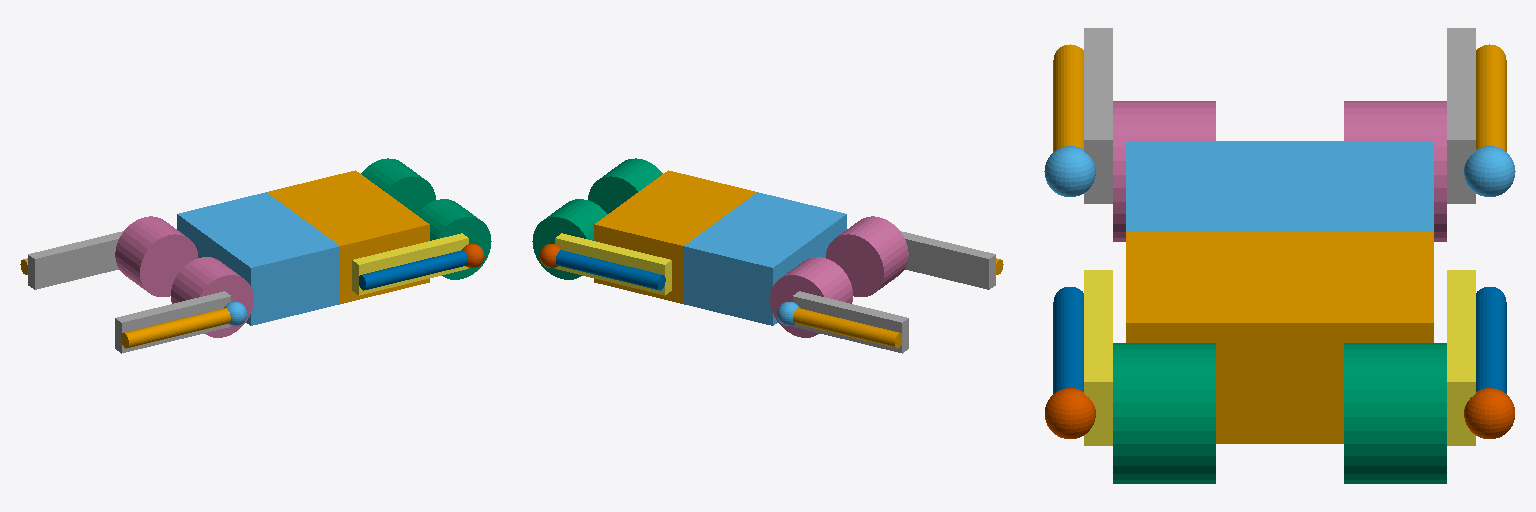
--- Render facts (derived) ---
3 views of the same robot in one strip: view 1: azimuth 30°, elevation 25°; view 2: azimuth 150°, elevation 25°; view 3: azimuth 270°, elevation 25° (orthographic).
Model spirit with 21 links and 20 joints (14 revolute, 6 fixed), rooted at body, posed all joints at 0 but 1 set to mid-range because 0 is outside their limits (body_tail_joint_1 = -1.53).
Links seen in each view (by area): view 1: body2, body, hip1, upper1, hip3, upper2, upper3, hip2, hip0, lower2, lower3; view 2: body2, body, hip3, upper3, hip1, upper0, upper1, hip0, hip2, lower0, lower1; view 3: body, body2, hip0, hip2, hip1, hip3, upper0, upper2, upper1, upper3, lower1, lower3 (+6 smaller).
Boxes of the visible links, bbox=[...] form: body2: bbox=[177, 192, 339, 325]; body: bbox=[267, 170, 429, 303]; hip1: bbox=[115, 216, 197, 296]; upper1: bbox=[28, 231, 123, 289]; hip3: bbox=[171, 257, 253, 337]; upper2: bbox=[352, 233, 468, 295]; upper3: bbox=[115, 291, 230, 353]; hip2: bbox=[416, 199, 491, 279]; hip0: bbox=[361, 158, 435, 213]; lower2: bbox=[359, 250, 467, 290]; lower3: bbox=[121, 308, 230, 348]; body2: bbox=[684, 192, 846, 325]; body: bbox=[594, 170, 756, 303]; hip3: bbox=[826, 216, 908, 296]; upper3: bbox=[900, 231, 995, 289]; hip1: bbox=[770, 257, 852, 337]; upper0: bbox=[555, 233, 671, 295]; upper1: bbox=[793, 291, 908, 353]; hip0: bbox=[532, 199, 607, 279]; hip2: bbox=[588, 158, 662, 213]; lower0: bbox=[556, 250, 665, 290]; lower1: bbox=[793, 308, 902, 348]; body: bbox=[1126, 232, 1433, 443]; body2: bbox=[1126, 141, 1433, 231]; hip0: bbox=[1344, 343, 1446, 483]; hip2: bbox=[1113, 343, 1215, 483]; hip1: bbox=[1344, 101, 1446, 241]; hip3: bbox=[1113, 101, 1215, 241]; upper0: bbox=[1447, 270, 1475, 445]; upper2: bbox=[1084, 270, 1112, 445]; upper1: bbox=[1447, 28, 1475, 203]; upper3: bbox=[1084, 28, 1112, 203]; lower1: bbox=[1476, 44, 1506, 151]; lower3: bbox=[1053, 44, 1083, 151].
Size in the robot's own frame: 0.706 by 0.366 by 0.11 metres.
Geometry: primitives only (box / cylinder / sphere), no mesh files.

robot.urdf — spirit:
<?xml version="1.0" encoding="utf-8"?>
<!-- =================================================================================== -->
<!-- |    This document was autogenerated by xacro from spine_template_robot.urdf.xacro | -->
<!-- |    EDITING THIS FILE BY HAND IS NOT RECOMMENDED                                 | -->
<!-- =================================================================================== -->
<!-- 
MIT License (modified)
Copyright (c) 2020 Ghost Robotics
Authors:
Avik De <[email redacted]>
Tom Jacobs <[email redacted]>
Permission is hereby granted, free of charge, to any person obtaining a copy
of this **file** (the "Software"), to deal
in the Software without restriction, including without limitation the rights
to use, copy, modify, merge, publish, distribute, sublicense, and/or sell
copies of the Software, and to permit persons to whom the Software is
furnished to do so, subject to the following conditions:
The above copyright notice and this permission notice shall be included in all
copies or substantial portions of the Software.
THE SOFTWARE IS PROVIDED "AS IS", WITHOUT WARRANTY OF ANY KIND, EXPRESS OR
IMPLIED, INCLUDING BUT NOT LIMITED TO THE WARRANTIES OF MERCHANTABILITY,
FITNESS FOR A PARTICULAR PURPOSE AND NONINFRINGEMENT. IN NO EVENT SHALL THE
AUTHORS OR COPYRIGHT HOLDERS BE LIABLE FOR ANY CLAIM, DAMAGES OR OTHER
LIABILITY, WHETHER IN AN ACTION OF CONTRACT, TORT OR OTHERWISE, ARISING FROM,
OUT OF OR IN CONNECTION WITH THE SOFTWARE OR THE USE OR OTHER DEALINGS IN THE
SOFTWARE. 
-->
<robot name="spirit">
  <!-- Body -->
  <link name="body">
    <visual>
      <origin rpy="0 0 0" xyz="0.08375 0 0"/>
      <geometry>
        <box size="0.1675 0.24 0.104"/>
      </geometry>
      <material name="darkgray"/>
    </visual>
    <inertial>
      <origin rpy="0 0 0" xyz="0.08375 0 0"/>
      <mass value="5.75"/>
      <!-- Uniform box -->
      <!-- <inertia ixx="1/12*${bodyMass}*(${bodyWidth}*${bodyWidth} + ${bodyHeight}*${bodyHeight})"  ixy="0"  ixz="0" iyy="1/12*${bodyMass}*(${bodyLength}*${bodyLength} + ${bodyHeight}*${bodyHeight})" iyz="0" izz="1/12*${bodyMass}*(${bodyLength}*${bodyLength} + ${bodyWidth}*${bodyWidth})"/> -->
      <inertia ixx="0.05" ixy="0" ixz="0" iyy="0.1" iyz="0" izz="0.1"/>
    </inertial>
    <!-- Just copy geometry for collision -->
    <collision>
      <origin rpy="0 0 0" xyz="0.08375 0 0"/>
      <geometry>
        <box size="0.1675 0.24 0.104"/>
        <!-- <uri>model:///meshes/Spirit40_Body_Mesh_transformed.stl</uri> -->
      </geometry>
    </collision>
  </link>
  <gazebo reference="body">
    <material>Gazebo/Black</material>
    <gravity>true</gravity>
  </gazebo>
  <link name="body2">
    <visual>
      <origin rpy="0 0 0" xyz="-0.08375 0 0"/>
      <geometry>
        <box size="0.1675 0.24 0.104"/>
      </geometry>
      <material name="darkgray"/>
    </visual>
    <inertial>
      <origin rpy="0 0 0" xyz="-0.08375 0 0"/>
      <mass value="5.75"/>
      <!-- Uniform box -->
      <!-- <inertia ixx="1/12*${bodyMass}*(${bodyWidth}*${bodyWidth} + ${bodyHeight}*${bodyHeight})"  ixy="0"  ixz="0" iyy="1/12*${bodyMass}*(${bodyLength}*${bodyLength} + ${bodyHeight}*${bodyHeight})" iyz="0" izz="1/12*${bodyMass}*(${bodyLength}*${bodyLength} + ${bodyWidth}*${bodyWidth})"/> -->
      <inertia ixx="0.05" ixy="0" ixz="0" iyy="0.1" iyz="0" izz="0.1"/>
    </inertial>
    <!-- Just copy geometry for collision -->
    <collision>
      <origin rpy="0 0 0" xyz="-0.08375 0 0"/>
      <geometry>
        <box size="0.1675 0.24 0.104"/>
        <!-- <uri>model:///meshes/Spirit40_Body_Mesh_transformed.stl</uri> -->
      </geometry>
    </collision>
  </link>
  <gazebo reference="body2">
    <material>Gazebo/Grey</material>
    <gravity>true</gravity>
  </gazebo>
  <!-- Hip motor -->
  <link name="hip0">
    <visual>
      <origin rpy="1.5707963268 0 0" xyz="0 0.028 0"/>
      <geometry>
        <cylinder length="0.08" radius="0.055"/>
      </geometry>
    </visual>
    <collision>
      <origin rpy="1.5707963268 0 0" xyz="0 0.028 0"/>
      <geometry>
        Radius
					
        <!-- <cylinder length="${podLength}" radius="${podRadius}"/> -->
        <box size="0.11 0.11 0.08"/>
      </geometry>
    </collision>
    <inertial>
      <!-- <origin rpy="${pi/2} 0 0" xyz="0 ${left * (dPodAxisToEdge)} 0"/> -->
      <origin rpy="0 0 0" xyz="0 0.028 0"/>
      <mass value="0.575"/>
      <!-- <inertia ixx="1/12*${podMass}*${podLength}*${podLength} + 1/4*${podMass}*${podRadius}*${podRadius}"  ixy="0"  ixz="0" iyy="1/12*${podMass}*${podLength}*${podLength} + 1/4*${podMass}*${podRadius}*${podRadius}" iyz="0" izz="1/2*${podMass}*${podRadius}*$
				{podRadius}" /> -->
      <inertia ixx="0.00066963541" ixy="0" ixz="0" iyy="0.00066963541" iyz="0" izz="0.0008696875"/>
    </inertial>
  </link>
  <gazebo reference="hip0">
    <material>Gazebo/Grey</material>
  </gazebo>
  <!-- Upper leg -->
  <link name="upper0">
    <visual>
      <origin rpy="0 0 0" xyz="-0.103 -0.022 0"/>
      <geometry>
        <box size="0.206 0.022 0.055"/>
      </geometry>
      <material name="silver"/>
    </visual>
    <collision>
      <origin rpy="0 0 0" xyz="-0.103 -0.022 0"/>
      <geometry>
        <box size="0.206 0.022 0.055"/>
      </geometry>
    </collision>
    <inertial>
      <origin rpy="0 0 0" xyz="-0.103 -0.022 0"/>
      <mass value="0.775"/>
      <inertia ixx="5e-05" ixy="0" ixz="0" iyy="0.001" iyz="0" izz="0.001"/>
    </inertial>
  </link>
  <gazebo reference="upper0">
    <material>Gazebo/DarkGrey</material>
  </gazebo>
  <!-- Abduction joint. Joint names are: 8 9 10 11 -->
  <joint name="8" type="revolute">
    <!-- <parent link="body"/> -->
    <parent link="body"/>
    <child link="hip0"/>
    <axis xyz="1 0 0"/>
    <origin xyz="0.2225 0.062 0"/>
    <!-- <origin xyz="${front * dx} ${left * dy} 0"/> -->
    <!-- <origin xyz="${front *bodyLength/2+front * podRadius} ${left *bodyWidth/2} 0"/> -->
    <limit effort="40" lower="-0.707" upper="0.707" velocity="30"/>
    <dynamics damping="0.0" friction="0.0"/>
  </joint>
  <!-- Transmission elements required for Gazebo -->
  <transmission name="transmission_8">
    <type>transmission_interface/SimpleTransmission</type>
    <joint name="8">
      <hardwareInterface>hardware_interface/EffortJointInterface</hardwareInterface>
    </joint>
    <actuator name="motor_8">
      <hardwareInterface>EffortJointInterface</hardwareInterface>
      <mechanicalReduction>1</mechanicalReduction>
    </actuator>
  </transmission>
  <!-- Hip joint. (Motor to upper leg). Joint names are: 0 2 4 6 -->
  <joint name="0" type="revolute">
    <parent link="hip0"/>
    <child link="upper0"/>
    <axis xyz="0 -1 0"/>
    <origin xyz="0 0.10098 0"/>
    <!--  rpy="0 -0.3 0" -->
    <limit effort="40" lower="-6.28318530718" upper="6.28318530718" velocity="30"/>
    <dynamics damping="0.0" friction="0.0"/>
  </joint>
  <!-- Transmission elements required for Gazebo -->
  <transmission name="transmission_0">
    <type>transmission_interface/SimpleTransmission</type>
    <joint name="0">
      <hardwareInterface>hardware_interface/EffortJointInterface</hardwareInterface>
    </joint>
    <actuator name="motor_0">
      <hardwareInterface>EffortJointInterface</hardwareInterface>
      <mechanicalReduction>1</mechanicalReduction>
    </actuator>
  </transmission>
  <!-- Lower leg -->
  <link name="lower0">
    <visual>
      <origin rpy="0 1.5707963268 0" xyz="0.103 0 0"/>
      <geometry>
        <cylinder length="0.206" radius="0.013"/>
      </geometry>
      <material name="darkgray"/>
    </visual>
    <collision>
      <origin rpy="0 1.5707963268 0" xyz="0.103 0 0"/>
      <geometry>
        <cylinder length="0.206" radius="0.013"/>
      </geometry>
    </collision>
    <inertial>
      <origin rpy="0 1.5707963268 0" xyz="0.103 0 0"/>
      <mass value="0.075"/>
      <inertia ixx="5e-06" ixy="0" ixz="0" iyy="0.0001" iyz="0" izz="0.0001"/>
    </inertial>
  </link>
  <gazebo reference="lower0">
    <material>Gazebo/Grey</material>
  </gazebo>
  <!-- Knee joint. Joint names are: 1 3 5 7 -->
  <joint name="1" type="revolute">
    <parent link="upper0"/>
    <child link="lower0"/>
    <axis xyz="0 1 0"/>
    <origin xyz="-0.206 0 0"/>
    <!--rpy="0 0.5 0"-->
    <limit effort="40" lower="0" upper="3.14159265359" velocity="30"/>
    <dynamics damping="0.0" friction="0.0"/>
  </joint>
  <!-- Transmission elements required for Gazebo -->
  <transmission name="transmission_1">
    <type>transmission_interface/SimpleTransmission</type>
    <joint name="1">
      <hardwareInterface>hardware_interface/EffortJointInterface</hardwareInterface>
    </joint>
    <actuator name="motor_1">
      <hardwareInterface>EffortJointInterface</hardwareInterface>
      <mechanicalReduction>1</mechanicalReduction>
    </actuator>
  </transmission>
  <!-- Toe -->
  <link name="toe0">
    <contact>
      <friction_anchor/>
      <stiffness value="30000.0"/>
      <damping value="1000.0"/>
      <spinning_friction value="0.3"/>
      <lateral_friction value="50.0"/>
    </contact>
    <visual>
      <origin rpy="0 0 0" xyz="0 0 0"/>
      <geometry>
        <sphere radius="0.02"/>
      </geometry>
      <material name="darkgray"/>
    </visual>
    <collision>
      <origin rpy="0 0 0" xyz="0 0 0"/>
      <geometry>
        <sphere radius="0.02"/>
      </geometry>
    </collision>
    <inertial>
      <mass value="0.015"/>
      <inertia ixx="0.000025" ixy="0" ixz="0" iyy="0.000025" iyz="0" izz="0.000025"/>
      <!-- <inertia ixx="2/5*${toeMass}*${toeRadius}*${toeRadius}"  ixy="0"  ixz="0" iyy="2/5*${toeMass}*${toeRadius}*${toeRadius}" iyz="0" izz="2/5*${toeMass}*${toeRadius}*${toeRadius}" /> -->
    </inertial>
  </link>
  <gazebo reference="toe0">
    <material>Gazebo/Black</material>
    <collision>
      <surface>
        <bounce>
          <restitution_coefficient>0</restitution_coefficient>
          <threshold>1e+06</threshold>
        </bounce>
        <friction>
          <torsional>
            <coefficient>0.3</coefficient>
          </torsional>
          <ode>
            <mu>100.0</mu>
            <mu2>50.0</mu2>
          </ode>
          <bullet>
            <rolling_friction>0.3</rolling_friction>
            <friction2>50.0</friction2>
          </bullet>
        </friction>
        <contact>
          <bullet>
            <kp>30000.0</kp>
            <kd>1000.0</kd>
          </bullet>
          <ode>
            <kp>30000.0</kp>
            <kd>1000.0</kd>
          </ode>
        </contact>
      </surface>
    </collision>
    <sensor name="toe0_contact" type="contact">
      <plugin filename="libgazebo_ros_bumper.so" name="toe0_plugin">
        <alwaysOn>1</alwaysOn>
        <updateRate>1000</updateRate>
        <bumperTopicName>gazebo/toe0_contact_state</bumperTopicName>
        <frameName>world</frameName>
        <robotNamespace>/</robotNamespace>
      </plugin>
      <contact>
        <collision>toe0_collision</collision>
        <topic>__default_topic__</topic>
      </contact>
      <update_rate>1000</update_rate>
    </sensor>
  </gazebo>
  <!-- Hip motor -->
  <link name="hip1">
    <visual>
      <origin rpy="1.5707963268 0 0" xyz="0 0.028 0"/>
      <geometry>
        <cylinder length="0.08" radius="0.055"/>
      </geometry>
    </visual>
    <collision>
      <origin rpy="1.5707963268 0 0" xyz="0 0.028 0"/>
      <geometry>
        Radius
					
        <!-- <cylinder length="${podLength}" radius="${podRadius}"/> -->
        <box size="0.11 0.11 0.08"/>
      </geometry>
    </collision>
    <inertial>
      <!-- <origin rpy="${pi/2} 0 0" xyz="0 ${left * (dPodAxisToEdge)} 0"/> -->
      <origin rpy="0 0 0" xyz="0 0.028 0"/>
      <mass value="0.575"/>
      <!-- <inertia ixx="1/12*${podMass}*${podLength}*${podLength} + 1/4*${podMass}*${podRadius}*${podRadius}"  ixy="0"  ixz="0" iyy="1/12*${podMass}*${podLength}*${podLength} + 1/4*${podMass}*${podRadius}*${podRadius}" iyz="0" izz="1/2*${podMass}*${podRadius}*$
				{podRadius}" /> -->
      <inertia ixx="0.00066963541" ixy="0" ixz="0" iyy="0.00066963541" iyz="0" izz="0.0008696875"/>
    </inertial>
  </link>
  <gazebo reference="hip1">
    <material>Gazebo/Grey</material>
  </gazebo>
  <!-- Upper leg -->
  <link name="upper1">
    <visual>
      <origin rpy="0 0 0" xyz="-0.103 -0.022 0"/>
      <geometry>
        <box size="0.206 0.022 0.055"/>
      </geometry>
      <material name="silver"/>
    </visual>
    <collision>
      <origin rpy="0 0 0" xyz="-0.103 -0.022 0"/>
      <geometry>
        <box size="0.206 0.022 0.055"/>
      </geometry>
    </collision>
    <inertial>
      <origin rpy="0 0 0" xyz="-0.103 -0.022 0"/>
      <mass value="0.775"/>
      <inertia ixx="5e-05" ixy="0" ixz="0" iyy="0.001" iyz="0" izz="0.001"/>
    </inertial>
  </link>
  <gazebo reference="upper1">
    <material>Gazebo/DarkGrey</material>
  </gazebo>
  <!-- Abduction joint. Joint names are: 8 9 10 11 -->
  <joint name="9" type="revolute">
    <!-- <parent link="body"/> -->
    <parent link="body2"/>
    <child link="hip1"/>
    <axis xyz="1 0 0"/>
    <origin xyz="-0.2225 0.062 0"/>
    <!-- <origin xyz="${front * dx} ${left * dy} 0"/> -->
    <!-- <origin xyz="${front *bodyLength/2+front * podRadius} ${left *bodyWidth/2} 0"/> -->
    <limit effort="40" lower="-0.707" upper="0.707" velocity="30"/>
    <dynamics damping="0.0" friction="0.0"/>
  </joint>
  <!-- Transmission elements required for Gazebo -->
  <transmission name="transmission_9">
    <type>transmission_interface/SimpleTransmission</type>
    <joint name="9">
      <hardwareInterface>hardware_interface/EffortJointInterface</hardwareInterface>
    </joint>
    <actuator name="motor_9">
      <hardwareInterface>EffortJointInterface</hardwareInterface>
      <mechanicalReduction>1</mechanicalReduction>
    </actuator>
  </transmission>
  <!-- Hip joint. (Motor to upper leg). Joint names are: 0 2 4 6 -->
  <joint name="2" type="revolute">
    <parent link="hip1"/>
    <child link="upper1"/>
    <axis xyz="0 -1 0"/>
    <origin xyz="0 0.10098 0"/>
    <!--  rpy="0 -0.3 0" -->
    <limit effort="40" lower="-6.28318530718" upper="6.28318530718" velocity="30"/>
    <dynamics damping="0.0" friction="0.0"/>
  </joint>
  <!-- Transmission elements required for Gazebo -->
  <transmission name="transmission_2">
    <type>transmission_interface/SimpleTransmission</type>
    <joint name="2">
      <hardwareInterface>hardware_interface/EffortJointInterface</hardwareInterface>
    </joint>
    <actuator name="motor_2">
      <hardwareInterface>EffortJointInterface</hardwareInterface>
      <mechanicalReduction>1</mechanicalReduction>
    </actuator>
  </transmission>
  <!-- Lower leg -->
  <link name="lower1">
    <visual>
      <origin rpy="0 1.5707963268 0" xyz="0.103 0 0"/>
      <geometry>
        <cylinder length="0.206" radius="0.013"/>
      </geometry>
      <material name="darkgray"/>
    </visual>
    <collision>
      <origin rpy="0 1.5707963268 0" xyz="0.103 0 0"/>
      <geometry>
        <cylinder length="0.206" radius="0.013"/>
      </geometry>
    </collision>
    <inertial>
      <origin rpy="0 1.5707963268 0" xyz="0.103 0 0"/>
      <mass value="0.075"/>
      <inertia ixx="5e-06" ixy="0" ixz="0" iyy="0.0001" iyz="0" izz="0.0001"/>
    </inertial>
  </link>
  <gazebo reference="lower1">
    <material>Gazebo/Grey</material>
  </gazebo>
  <!-- Knee joint. Joint names are: 1 3 5 7 -->
  <joint name="3" type="revolute">
    <parent link="upper1"/>
    <child link="lower1"/>
    <axis xyz="0 1 0"/>
    <origin xyz="-0.206 0 0"/>
    <!--rpy="0 0.5 0"-->
    <limit effort="40" lower="0" upper="3.14159265359" velocity="30"/>
    <dynamics damping="0.0" friction="0.0"/>
  </joint>
  <!-- Transmission elements required for Gazebo -->
  <transmission name="transmission_3">
    <type>transmission_interface/SimpleTransmission</type>
    <joint name="3">
      <hardwareInterface>hardware_interface/EffortJointInterface</hardwareInterface>
    </joint>
    <actuator name="motor_3">
      <hardwareInterface>EffortJointInterface</hardwareInterface>
      <mechanicalReduction>1</mechanicalReduction>
    </actuator>
  </transmission>
  <!-- Toe -->
  <link name="toe1">
    <contact>
      <friction_anchor/>
      <stiffness value="30000.0"/>
      <damping value="1000.0"/>
      <spinning_friction value="0.3"/>
      <lateral_friction value="50.0"/>
    </contact>
    <visual>
      <origin rpy="0 0 0" xyz="0 0 0"/>
      <geometry>
        <sphere radius="0.02"/>
      </geometry>
      <material name="darkgray"/>
    </visual>
    <collision>
      <origin rpy="0 0 0" xyz="0 0 0"/>
      <geometry>
        <sphere radius="0.02"/>
      </geometry>
    </collision>
    <inertial>
      <mass value="0.015"/>
      <inertia ixx="0.000025" ixy="0" ixz="0" iyy="0.000025" iyz="0" izz="0.000025"/>
      <!-- <inertia ixx="2/5*${toeMass}*${toeRadius}*${toeRadius}"  ixy="0"  ixz="0" iyy="2/5*${toeMass}*${toeRadius}*${toeRadius}" iyz="0" izz="2/5*${toeMass}*${toeRadius}*${toeRadius}" /> -->
    </inertial>
  </link>
  <gazebo reference="toe1">
    <material>Gazebo/Black</material>
    <collision>
      <surface>
        <bounce>
          <restitution_coefficient>0</restitution_coefficient>
          <threshold>1e+06</threshold>
        </bounce>
        <friction>
          <torsional>
            <coefficient>0.3</coefficient>
          </torsional>
          <ode>
            <mu>100.0</mu>
            <mu2>50.0</mu2>
          </ode>
          <bullet>
            <rolling_friction>0.3</rolling_friction>
            <friction2>50.0</friction2>
          </bullet>
        </friction>
        <contact>
          <bullet>
            <kp>30000.0</kp>
            <kd>1000.0</kd>
          </bullet>
          <ode>
            <kp>30000.0</kp>
            <kd>1000.0</kd>
          </ode>
        </contact>
      </surface>
    </collision>
    <sensor name="toe1_contact" type="contact">
      <plugin filename="libgazebo_ros_bumper.so" name="toe1_plugin">
        <alwaysOn>1</alwaysOn>
        <updateRate>1000</updateRate>
        <bumperTopicName>gazebo/toe1_contact_state</bumperTopicName>
        <frameName>world</frameName>
        <robotNamespace>/</robotNamespace>
      </plugin>
      <contact>
        <collision>toe1_collision</collision>
        <topic>__default_topic__</topic>
      </contact>
      <update_rate>1000</update_rate>
    </sensor>
  </gazebo>
  <!-- Hip motor -->
  <link name="hip2">
    <visual>
      <origin rpy="1.5707963268 0 0" xyz="0 -0.028 0"/>
      <geometry>
        <cylinder length="0.08" radius="0.055"/>
      </geometry>
    </visual>
    <collision>
      <origin rpy="1.5707963268 0 0" xyz="0 -0.028 0"/>
      <geometry>
        Radius
					
        <!-- <cylinder length="${podLength}" radius="${podRadius}"/> -->
        <box size="0.11 0.11 0.08"/>
      </geometry>
    </collision>
    <inertial>
      <!-- <origin rpy="${pi/2} 0 0" xyz="0 ${left * (dPodAxisToEdge)} 0"/> -->
      <origin rpy="0 0 0" xyz="0 -0.028 0"/>
      <mass value="0.575"/>
      <!-- <inertia ixx="1/12*${podMass}*${podLength}*${podLength} + 1/4*${podMass}*${podRadius}*${podRadius}"  ixy="0"  ixz="0" iyy="1/12*${podMass}*${podLength}*${podLength} + 1/4*${podMass}*${podRadius}*${podRadius}" iyz="0" izz="1/2*${podMass}*${podRadius}*$
				{podRadius}" /> -->
      <inertia ixx="0.00066963541" ixy="0" ixz="0" iyy="0.00066963541" iyz="0" izz="0.0008696875"/>
    </inertial>
  </link>
  <gazebo reference="hip2">
    <material>Gazebo/Grey</material>
  </gazebo>
  <!-- Upper leg -->
  <link name="upper2">
    <visual>
      <origin rpy="0 0 0" xyz="-0.103 0.022 0"/>
      <geometry>
        <box size="0.206 0.022 0.055"/>
      </geometry>
      <material name="silver"/>
    </visual>
    <collision>
      <origin rpy="0 0 0" xyz="-0.103 0.022 0"/>
      <geometry>
        <box size="0.206 0.022 0.055"/>
      </geometry>
    </collision>
    <inertial>
      <origin rpy="0 0 0" xyz="-0.103 0.022 0"/>
      <mass value="0.775"/>
      <inertia ixx="5e-05" ixy="0" ixz="0" iyy="0.001" iyz="0" izz="0.001"/>
    </inertial>
  </link>
  <gazebo reference="upper2">
    <material>Gazebo/DarkGrey</material>
  </gazebo>
  <!-- Abduction joint. Joint names are: 8 9 10 11 -->
  <joint name="10" type="revolute">
    <!-- <parent link="body"/> -->
    <parent link="body"/>
    <child link="hip2"/>
    <axis xyz="1 0 0"/>
    <origin xyz="0.2225 -0.062 0"/>
    <!-- <origin xyz="${front * dx} ${left * dy} 0"/> -->
    <!-- <origin xyz="${front *bodyLength/2+front * podRadius} ${left *bodyWidth/2} 0"/> -->
    <limit effort="40" lower="-0.707" upper="0.707" velocity="30"/>
    <dynamics damping="0.0" friction="0.0"/>
  </joint>
  <!-- Transmission elements required for Gazebo -->
  <transmission name="transmission_10">
    <type>transmission_interface/SimpleTransmission</type>
    <joint name="10">
      <hardwareInterface>hardware_interface/EffortJointInterface</hardwareInterface>
    </joint>
    <actuator name="motor_10">
      <hardwareInterface>EffortJointInterface</hardwareInterface>
      <mechanicalReduction>1</mechanicalReduction>
    </actuator>
  </transmission>
  <!-- Hip joint. (Motor to upper leg). Joint names are: 0 2 4 6 -->
  <joint name="4" type="revolute">
    <parent link="hip2"/>
    <child link="upper2"/>
    <axis xyz="0 -1 0"/>
    <origin xyz="0 -0.10098 0"/>
    <!--  rpy="0 -0.3 0" -->
    <limit effort="40" lower="-6.28318530718" upper="6.28318530718" velocity="30"/>
    <dynamics damping="0.0" friction="0.0"/>
  </joint>
  <!-- Transmission elements required for Gazebo -->
  <transmission name="transmission_4">
    <type>transmission_interface/SimpleTransmission</type>
    <joint name="4">
      <hardwareInterface>hardware_interface/EffortJointInterface</hardwareInterface>
    </joint>
    <actuator name="motor_4">
      <hardwareInterface>EffortJointInterface</hardwareInterface>
      <mechanicalReduction>1</mechanicalReduction>
    </actuator>
  </transmission>
  <!-- Lower leg -->
  <link name="lower2">
    <visual>
      <origin rpy="0 1.5707963268 0" xyz="0.103 0 0"/>
      <geometry>
        <cylinder length="0.206" radius="0.013"/>
      </geometry>
      <material name="darkgray"/>
    </visual>
    <collision>
      <origin rpy="0 1.5707963268 0" xyz="0.103 0 0"/>
      <geometry>
        <cylinder length="0.206" radius="0.013"/>
      </geometry>
    </collision>
    <inertial>
      <origin rpy="0 1.5707963268 0" xyz="0.103 0 0"/>
      <mass value="0.075"/>
      <inertia ixx="5e-06" ixy="0" ixz="0" iyy="0.0001" iyz="0" izz="0.0001"/>
    </inertial>
  </link>
  <gazebo reference="lower2">
    <material>Gazebo/Grey</material>
  </gazebo>
  <!-- Knee joint. Joint names are: 1 3 5 7 -->
  <joint name="5" type="revolute">
    <parent link="upper2"/>
    <child link="lower2"/>
    <axis xyz="0 1 0"/>
    <origin xyz="-0.206 0 0"/>
    <!--rpy="0 0.5 0"-->
    <limit effort="40" lower="0" upper="3.14159265359" velocity="30"/>
    <dynamics damping="0.0" friction="0.0"/>
  </joint>
  <!-- Transmission elements required for Gazebo -->
  <transmission name="transmission_5">
    <type>transmission_interface/SimpleTransmission</type>
    <joint name="5">
      <hardwareInterface>hardware_interface/EffortJointInterface</hardwareInterface>
    </joint>
    <actuator name="motor_5">
      <hardwareInterface>EffortJointInterface</hardwareInterface>
      <mechanicalReduction>1</mechanicalReduction>
    </actuator>
  </transmission>
  <!-- Toe -->
  <link name="toe2">
    <contact>
      <friction_anchor/>
      <stiffness value="30000.0"/>
      <damping value="1000.0"/>
      <spinning_friction value="0.3"/>
      <lateral_friction value="50.0"/>
    </contact>
    <visual>
      <origin rpy="0 0 0" xyz="0 0 0"/>
      <geometry>
        <sphere radius="0.02"/>
      </geometry>
      <material name="darkgray"/>
    </visual>
    <collision>
      <origin rpy="0 0 0" xyz="0 0 0"/>
      <geometry>
        <sphere radius="0.02"/>
      </geometry>
    </collision>
    <inertial>
      <mass value="0.015"/>
      <inertia ixx="0.000025" ixy="0" ixz="0" iyy="0.000025" iyz="0" izz="0.000025"/>
      <!-- <inertia ixx="2/5*${toeMass}*${toeRadius}*${toeRadius}"  ixy="0"  ixz="0" iyy="2/5*${toeMass}*${toeRadius}*${toeRadius}" iyz="0" izz="2/5*${toeMass}*${toeRadius}*${toeRadius}" /> -->
    </inertial>
  </link>
  <gazebo reference="toe2">
    <material>Gazebo/Black</material>
    <collision>
      <surface>
        <bounce>
          <restitution_coefficient>0</restitution_coefficient>
          <threshold>1e+06</threshold>
        </bounce>
        <friction>
          <torsional>
            <coefficient>0.3</coefficient>
          </torsional>
          <ode>
            <mu>100.0</mu>
            <mu2>50.0</mu2>
          </ode>
          <bullet>
            <rolling_friction>0.3</rolling_friction>
            <friction2>50.0</friction2>
          </bullet>
        </friction>
        <contact>
          <bullet>
            <kp>30000.0</kp>
            <kd>1000.0</kd>
          </bullet>
          <ode>
            <kp>30000.0</kp>
            <kd>1000.0</kd>
          </ode>
        </contact>
      </surface>
    </collision>
    <sensor name="toe2_contact" type="contact">
      <plugin filename="libgazebo_ros_bumper.so" name="toe2_plugin">
        <alwaysOn>1</alwaysOn>
        <updateRate>1000</updateRate>
        <bumperTopicName>gazebo/toe2_contact_state</bumperTopicName>
        <frameName>world</frameName>
        <robotNamespace>/</robotNamespace>
      </plugin>
      <contact>
        <collision>toe2_collision</collision>
        <topic>__default_topic__</topic>
      </contact>
      <update_rate>1000</update_rate>
    </sensor>
  </gazebo>
  <!-- Hip motor -->
  <link name="hip3">
    <visual>
      <origin rpy="1.5707963268 0 0" xyz="0 -0.028 0"/>
      <geometry>
        <cylinder length="0.08" radius="0.055"/>
      </geometry>
    </visual>
    <collision>
      <origin rpy="1.5707963268 0 0" xyz="0 -0.028 0"/>
      <geometry>
        Radius
					
        <!-- <cylinder length="${podLength}" radius="${podRadius}"/> -->
        <box size="0.11 0.11 0.08"/>
      </geometry>
    </collision>
    <inertial>
      <!-- <origin rpy="${pi/2} 0 0" xyz="0 ${left * (dPodAxisToEdge)} 0"/> -->
      <origin rpy="0 0 0" xyz="0 -0.028 0"/>
      <mass value="0.575"/>
      <!-- <inertia ixx="1/12*${podMass}*${podLength}*${podLength} + 1/4*${podMass}*${podRadius}*${podRadius}"  ixy="0"  ixz="0" iyy="1/12*${podMass}*${podLength}*${podLength} + 1/4*${podMass}*${podRadius}*${podRadius}" iyz="0" izz="1/2*${podMass}*${podRadius}*$
				{podRadius}" /> -->
      <inertia ixx="0.00066963541" ixy="0" ixz="0" iyy="0.00066963541" iyz="0" izz="0.0008696875"/>
    </inertial>
  </link>
  <gazebo reference="hip3">
    <material>Gazebo/Grey</material>
  </gazebo>
  <!-- Upper leg -->
  <link name="upper3">
    <visual>
      <origin rpy="0 0 0" xyz="-0.103 0.022 0"/>
      <geometry>
        <box size="0.206 0.022 0.055"/>
      </geometry>
      <material name="silver"/>
    </visual>
    <collision>
      <origin rpy="0 0 0" xyz="-0.103 0.022 0"/>
      <geometry>
        <box size="0.206 0.022 0.055"/>
      </geometry>
    </collision>
    <inertial>
      <origin rpy="0 0 0" xyz="-0.103 0.022 0"/>
      <mass value="0.775"/>
      <inertia ixx="5e-05" ixy="0" ixz="0" iyy="0.001" iyz="0" izz="0.001"/>
    </inertial>
  </link>
  <gazebo reference="upper3">
    <material>Gazebo/DarkGrey</material>
  </gazebo>
  <!-- Abduction joint. Joint names are: 8 9 10 11 -->
  <joint name="11" type="revolute">
    <!-- <parent link="body"/> -->
    <parent link="body2"/>
    <child link="hip3"/>
    <axis xyz="1 0 0"/>
    <origin xyz="-0.2225 -0.062 0"/>
    <!-- <origin xyz="${front * dx} ${left * dy} 0"/> -->
    <!-- <origin xyz="${front *bodyLength/2+front * podRadius} ${left *bodyWidth/2} 0"/> -->
    <limit effort="40" lower="-0.707" upper="0.707" velocity="30"/>
    <dynamics damping="0.0" friction="0.0"/>
  </joint>
  <!-- Transmission elements required for Gazebo -->
  <transmission name="transmission_11">
    <type>transmission_interface/SimpleTransmission</type>
    <joint name="11">
      <hardwareInterface>hardware_interface/EffortJointInterface</hardwareInterface>
    </joint>
    <actuator name="motor_11">
      <hardwareInterface>EffortJointInterface</hardwareInterface>
      <mechanicalReduction>1</mechanicalReduction>
    </actuator>
  </transmission>
  <!-- Hip joint. (Motor to upper leg). Joint names are: 0 2 4 6 -->
  <joint name="6" type="revolute">
    <parent link="hip3"/>
    <child link="upper3"/>
    <axis xyz="0 -1 0"/>
    <origin xyz="0 -0.10098 0"/>
    <!--  rpy="0 -0.3 0" -->
    <limit effort="40" lower="-6.28318530718" upper="6.28318530718" velocity="30"/>
    <dynamics damping="0.0" friction="0.0"/>
  </joint>
  <!-- Transmission elements required for Gazebo -->
  <transmission name="transmission_6">
    <type>transmission_interface/SimpleTransmission</type>
    <joint name="6">
      <hardwareInterface>hardware_interface/EffortJointInterface</hardwareInterface>
    </joint>
    <actuator name="motor_6">
      <hardwareInterface>EffortJointInterface</hardwareInterface>
      <mechanicalReduction>1</mechanicalReduction>
    </actuator>
  </transmission>
  <!-- Lower leg -->
  <link name="lower3">
    <visual>
      <origin rpy="0 1.5707963268 0" xyz="0.103 0 0"/>
      <geometry>
        <cylinder length="0.206" radius="0.013"/>
      </geometry>
      <material name="darkgray"/>
    </visual>
    <collision>
      <origin rpy="0 1.5707963268 0" xyz="0.103 0 0"/>
      <geometry>
        <cylinder length="0.206" radius="0.013"/>
      </geometry>
    </collision>
    <inertial>
      <origin rpy="0 1.5707963268 0" xyz="0.103 0 0"/>
      <mass value="0.075"/>
      <inertia ixx="5e-06" ixy="0" ixz="0" iyy="0.0001" iyz="0" izz="0.0001"/>
    </inertial>
  </link>
  <gazebo reference="lower3">
    <material>Gazebo/Grey</material>
  </gazebo>
  <!-- Knee joint. Joint names are: 1 3 5 7 -->
  <joint name="7" type="revolute">
    <parent link="upper3"/>
    <child link="lower3"/>
    <axis xyz="0 1 0"/>
    <origin xyz="-0.206 0 0"/>
    <!--rpy="0 0.5 0"-->
    <limit effort="40" lower="0" upper="3.14159265359" velocity="30"/>
    <dynamics damping="0.0" friction="0.0"/>
  </joint>
  <!-- Transmission elements required for Gazebo -->
  <transmission name="transmission_7">
    <type>transmission_interface/SimpleTransmission</type>
    <joint name="7">
      <hardwareInterface>hardware_interface/EffortJointInterface</hardwareInterface>
    </joint>
    <actuator name="motor_7">
      <hardwareInterface>EffortJointInterface</hardwareInterface>
      <mechanicalReduction>1</mechanicalReduction>
    </actuator>
  </transmission>
  <!-- Toe -->
  <link name="toe3">
    <contact>
      <friction_anchor/>
      <stiffness value="30000.0"/>
      <damping value="1000.0"/>
      <spinning_friction value="0.3"/>
      <lateral_friction value="50.0"/>
    </contact>
    <visual>
      <origin rpy="0 0 0" xyz="0 0 0"/>
      <geometry>
        <sphere radius="0.02"/>
      </geometry>
      <material name="darkgray"/>
    </visual>
    <collision>
      <origin rpy="0 0 0" xyz="0 0 0"/>
      <geometry>
        <sphere radius="0.02"/>
      </geometry>
    </collision>
    <inertial>
      <mass value="0.015"/>
      <inertia ixx="0.000025" ixy="0" ixz="0" iyy="0.000025" iyz="0" izz="0.000025"/>
      <!-- <inertia ixx="2/5*${toeMass}*${toeRadius}*${toeRadius}"  ixy="0"  ixz="0" iyy="2/5*${toeMass}*${toeRadius}*${toeRadius}" iyz="0" izz="2/5*${toeMass}*${toeRadius}*${toeRadius}" /> -->
    </inertial>
  </link>
  <gazebo reference="toe3">
    <material>Gazebo/Black</material>
    <collision>
      <surface>
        <bounce>
          <restitution_coefficient>0</restitution_coefficient>
          <threshold>1e+06</threshold>
        </bounce>
        <friction>
          <torsional>
            <coefficient>0.3</coefficient>
          </torsional>
          <ode>
            <mu>100.0</mu>
            <mu2>50.0</mu2>
          </ode>
          <bullet>
            <rolling_friction>0.3</rolling_friction>
            <friction2>50.0</friction2>
          </bullet>
        </friction>
        <contact>
          <bullet>
            <kp>30000.0</kp>
            <kd>1000.0</kd>
          </bullet>
          <ode>
            <kp>30000.0</kp>
            <kd>1000.0</kd>
          </ode>
        </contact>
      </surface>
    </collision>
    <sensor name="toe3_contact" type="contact">
      <plugin filename="libgazebo_ros_bumper.so" name="toe3_plugin">
        <alwaysOn>1</alwaysOn>
        <updateRate>1000</updateRate>
        <bumperTopicName>gazebo/toe3_contact_state</bumperTopicName>
        <frameName>world</frameName>
        <robotNamespace>/</robotNamespace>
      </plugin>
      <contact>
        <collision>toe3_collision</collision>
        <topic>__default_topic__</topic>
      </contact>
      <update_rate>1000</update_rate>
    </sensor>
  </gazebo>
  <link name="imu::link">
    <visual>
      <origin rpy="0 0 0" xyz="0 0 0"/>
      <geometry>
        <sphere radius="0.02"/>
      </geometry>
      <material name="gray"/>
    </visual>
    <inertial>
      <mass value="0.001"/>
      <inertia ixx="0.0001" ixy="0" ixz="0" iyy="0" iyz="0" izz="0"/>
    </inertial>
  </link>
  <gazebo reference="imu::link">
    <material>Gazebo/Gray</material>
    <sensor name="imu_sensor" type="imu">
      <always_on>1</always_on>
      <update_rate>100</update_rate>
      <visualize>1</visualize>
      <topic>__default_topic__</topic>
      <plugin filename="libgazebo_ros_imu_sensor.so" name="imu_plugin">
        <topicName>/mcu/state/imu</topicName>
        <bodyName>imu::link</bodyName>
        <robotNamespace>/</robotNamespace>
        <updateRateHZ>500.0</updateRateHZ>
        <gaussianNoise>0.0</gaussianNoise>
        <xyzOffset>0 0 0</xyzOffset>
        <rpyOffset>0 0 0</rpyOffset>
        <frameName>imu::link</frameName>
        <initialOrientationAsReference>0</initialOrientationAsReference>
      </plugin>
      <pose frame="">0 0 0 0 -0 0</pose>
      <imu/>
    </sensor>
  </gazebo>
  <joint name="body_tail_joint_0" type="revolute">
    <parent link="body"/>
    <child link="body2"/>
    <axis xyz="0 1 0"/>
    <!-- <origin xyz="${neckAttachmentX} 0 0"/> -->
    <origin xyz="0 0 0"/>
    <limit effort="35" lower="-0.1" upper="0.1" velocity="1000000"/>
    <dynamics damping="0.0" friction="0.0"/>
  </joint>
  <!-- Transmission elements required for Gazebo -->
  <transmission name="transmission_body_tail_joint_0">
    <type>transmission_interface/SimpleTransmission</type>
    <joint name="body_tail_joint_0">
      <hardwareInterface>hardware_interface/EffortJointInterface</hardwareInterface>
    </joint>
    <actuator name="motor_body_tail_joint_0">
      <hardwareInterface>EffortJointInterface</hardwareInterface>
      <mechanicalReduction>1</mechanicalReduction>
    </actuator>
  </transmission>
  <link name="tail_link_1">
    <visual>
      <origin rpy="0 0 0" xyz="0 0 0"/>
      <geometry>
        <sphere radius="0.01"/>
      </geometry>
      <material name="darkgray"/>
    </visual>
    <inertial>
      <mass value="0.001"/>
      <inertia ixx="0.0001" ixy="0" ixz="0" iyy="0.0001" iyz="0" izz="0.0001"/>
    </inertial>
    <!-- Just copy geometry for collision -->
    <!-- <collision>
		<origin rpy="0 0 0" xyz="${neckLength2/2} 0 0"/>
			<geometry>
				<box size="${neckLength2} ${neckWidth} ${neckHeight}"/>
			</geometry>
		</collision> -->
  </link>
  <gazebo reference="tail_link_1">
    <material>Gazebo/Gray</material>
  </gazebo>
  <link name="tail_mass">
    <visual>
      <origin rpy="0 0 0" xyz="0 0 0"/>
      <geometry>
        <sphere radius="0.01"/>
      </geometry>
      <material name="gray"/>
    </visual>
    <inertial>
      <mass value="0.001"/>
      <inertia ixx="0.001" ixy="0" ixz="0" iyy="0" iyz="0" izz="0"/>
    </inertial>
    <collision>
      <origin rpy="0 0 0" xyz="0 0 0"/>
      <geometry>
        <sphere radius="0.02"/>
      </geometry>
    </collision>
  </link>
  <gazebo reference="tail_mass">
    <material>Gazebo/Gray</material>
  </gazebo>
  <joint name="body_tail_joint_1" type="revolute">
    <parent link="body2"/>
    <child link="tail_link_1"/>
    <axis xyz="0 1 0"/>
    <origin xyz="0 0 0"/>
    <limit effort="35" lower="-1.57" upper="-1.5" velocity="1000000"/>
    <dynamics damping="0.0" friction="0.0"/>
  </joint>
  <!-- Transmission elements required for Gazebo -->
  <transmission name="transmission_body_tail_joint_1">
    <type>transmission_interface/SimpleTransmission</type>
    <joint name="body_tail_joint_1">
      <hardwareInterface>hardware_interface/EffortJointInterface</hardwareInterface>
    </joint>
    <actuator name="motor_body_tail_joint_1">
      <hardwareInterface>EffortJointInterface</hardwareInterface>
      <mechanicalReduction>1</mechanicalReduction>
    </actuator>
  </transmission>
  <joint name="tail_link_mass_joint" type="fixed">
    <parent link="tail_link_1"/>
    <child link="tail_mass"/>
    <origin xyz="0 0 0"/>
    <dynamics damping="0.0" friction="0.0"/>
  </joint>
  <gazebo reference="tail_link_mass_joint">
    <disableFixedJointLumping>1</disableFixedJointLumping>
    <preserveFixedJoint>1</preserveFixedJoint>
  </gazebo>
  <joint name="jtoe0" type="fixed">
    <parent link="lower0"/>
    <child link="toe0"/>
    <origin xyz="0.206 0 -0.0"/>
    <dynamics damping="0.0" friction="0.0"/>
  </joint>
  <gazebo reference="jtoe0">
    <disableFixedJointLumping>1</disableFixedJointLumping>
    <preserveFixedJoint>1</preserveFixedJoint>
  </gazebo>
  <joint name="jtoe1" type="fixed">
    <parent link="lower1"/>
    <child link="toe1"/>
    <origin xyz="0.206 0 -0.0"/>
    <dynamics damping="0.0" friction="0.0"/>
  </joint>
  <gazebo reference="jtoe1">
    <disableFixedJointLumping>1</disableFixedJointLumping>
    <preserveFixedJoint>1</preserveFixedJoint>
  </gazebo>
  <joint name="jtoe2" type="fixed">
    <parent link="lower2"/>
    <child link="toe2"/>
    <origin xyz="0.206 0 -0.0"/>
    <dynamics damping="0.0" friction="0.0"/>
  </joint>
  <gazebo reference="jtoe2">
    <disableFixedJointLumping>1</disableFixedJointLumping>
    <preserveFixedJoint>1</preserveFixedJoint>
  </gazebo>
  <joint name="jtoe3" type="fixed">
    <parent link="lower3"/>
    <child link="toe3"/>
    <origin xyz="0.206 0 -0.0"/>
    <dynamics damping="0.0" friction="0.0"/>
  </joint>
  <gazebo reference="jtoe3">
    <disableFixedJointLumping>1</disableFixedJointLumping>
    <preserveFixedJoint>1</preserveFixedJoint>
  </gazebo>
  <joint name="imu_joint" type="fixed">
    <parent link="body"/>
    <child link="imu::link"/>
  </joint>
  <gazebo reference="imu_joint">
    <disableFixedJointLumping>1</disableFixedJointLumping>
    <preserveFixedJoint>1</preserveFixedJoint>
  </gazebo>
  <!--    CUSTOMIZED SECTIONS	ABOVE. NOT FROM GHOST ROBOTICS.    -->
  <!-- Add ros_control plugin -->
  <gazebo>
    <plugin filename="libgazebo_ros_control.so" name="gazebo_ros_control">
      <robotNamespace>/spirit</robotNamespace>
      <controlPeriod>0.002</controlPeriod>
    </plugin>
    <plugin filename="libground_truth_estimator.so" name="ground_truth_estimator">
      <updateRateHZ>500.0</updateRateHZ>
      <robotNamespace>/</robotNamespace>
    </plugin>
  </gazebo>
</robot>
<!-- 
	<joint name="spine" type="revolute">
   		<parent link="body"/>
    	<child link="body2"/>
    	<axis xyz="0 1 0"/>
    	<origin xyz="${neckAttachmentX} 0 0"/>
    	<origin xyz="0 0 0"/>
    	<limit effort="35" lower="-1.57" upper="-1.57" velocity="1000000"/>
    	<dynamics damping="0.0" friction="0.0"/>
  	</joint>
	//Transmission elements required for Gazebo
  	<transmission name="transmission_spine">
    	<type>transmission_interface/SimpleTransmission</type>
    	<joint name="spine">
      		<hardwareInterface>hardware_interface/EffortJointInterface</hardwareInterface>
    	</joint>
    	<actuator name="motor_spine">
      		<hardwareInterface>EffortJointInterface</hardwareInterface>
      		<mechanicalReduction>1</mechanicalReduction>
    	</actuator>
  	</transmission> -->
